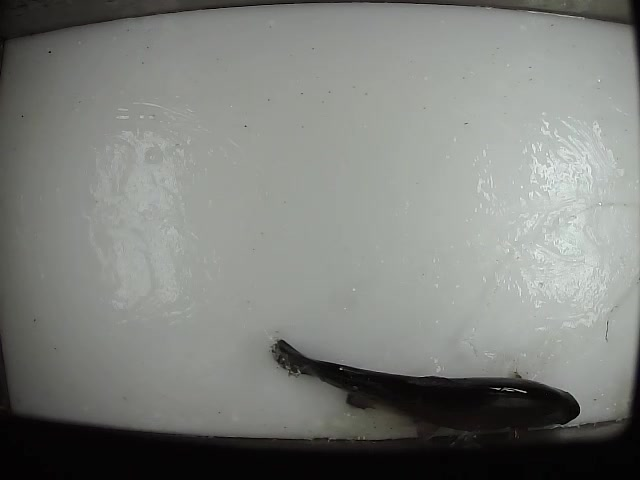fish: (267, 332, 581, 447)
